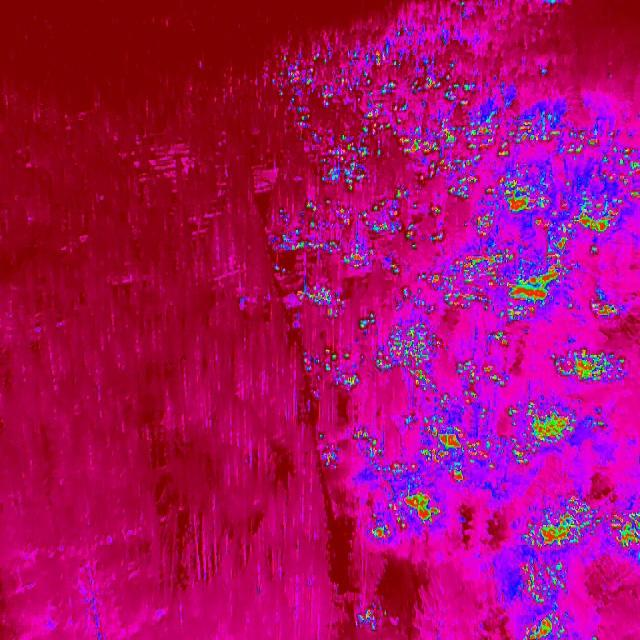fire: (270, 23, 490, 202), (489, 106, 640, 252), (408, 393, 621, 488), (445, 205, 570, 323), (270, 202, 446, 278), (348, 423, 444, 552), (356, 280, 464, 392), (513, 486, 608, 562), (515, 561, 583, 640), (546, 332, 631, 388), (456, 328, 518, 390), (298, 346, 360, 396), (295, 280, 349, 324), (312, 428, 342, 472), (354, 598, 390, 634), (586, 291, 628, 321), (610, 511, 640, 551)
